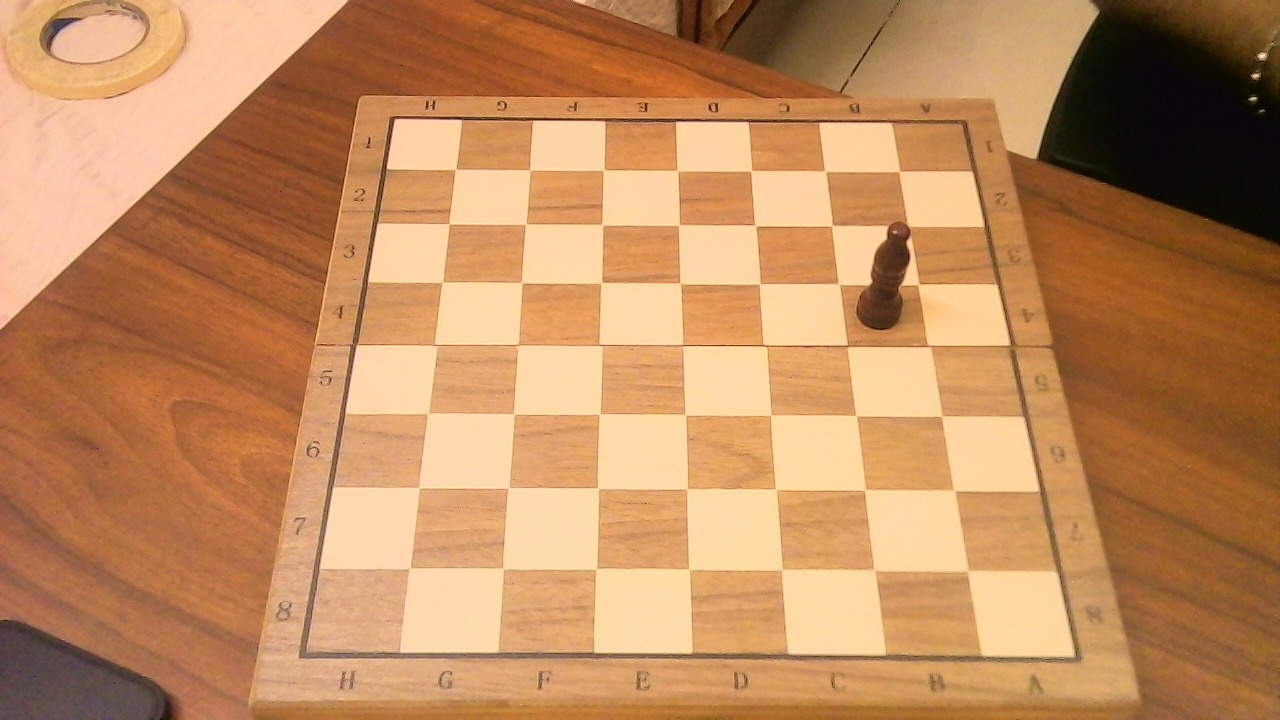b: (852, 209, 925, 335)
